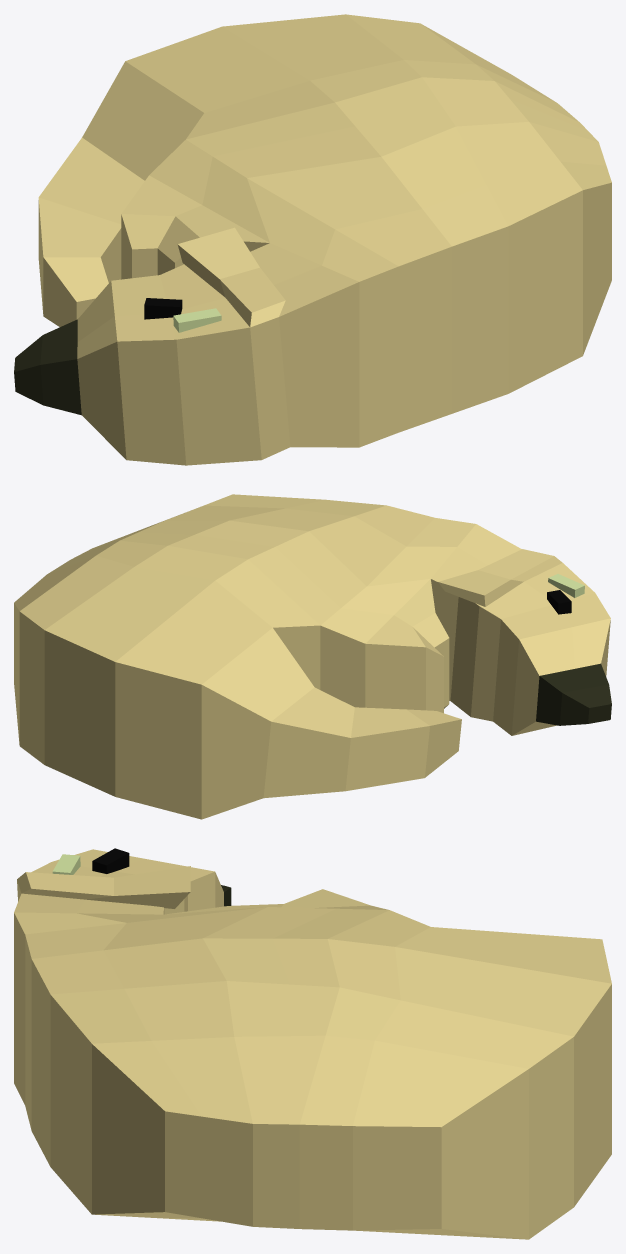
Rendered from dog.fbx.
3 renders of one model, top to bottom at view 1: azimuth 30°, elevation 25°; view 2: azimuth 150°, elevation 25°; view 3: azimuth 270°, elevation 25°, orthographic. The views are drawn at different scales.
Parts seen in each view (by area): view 1: Cube.004, Cube.006, Cube.005; view 2: Cube.004, Cube.006, Cube.005; view 3: Cube.004, Cube.005.
Part boxes in pixels (x1,y1,x2,y2): Cube.004: [14, 14, 611, 465]; Cube.006: [173, 308, 221, 332]; Cube.005: [144, 298, 182, 319]; Cube.004: [14, 494, 611, 819]; Cube.006: [548, 574, 584, 597]; Cube.005: [547, 590, 571, 614]; Cube.004: [14, 849, 611, 1239]; Cube.005: [92, 848, 129, 873].
Bounding box in the file's own units: 322 × 101 × 262.
